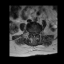CCS_normal: (33, 31, 35, 38)
LFS_stenosis: (36, 31, 38, 35)
LLS_stenosis: (35, 31, 36, 35)
RFS_stenosis: (30, 31, 32, 35)
RLS_stenosis: (32, 31, 33, 35)
